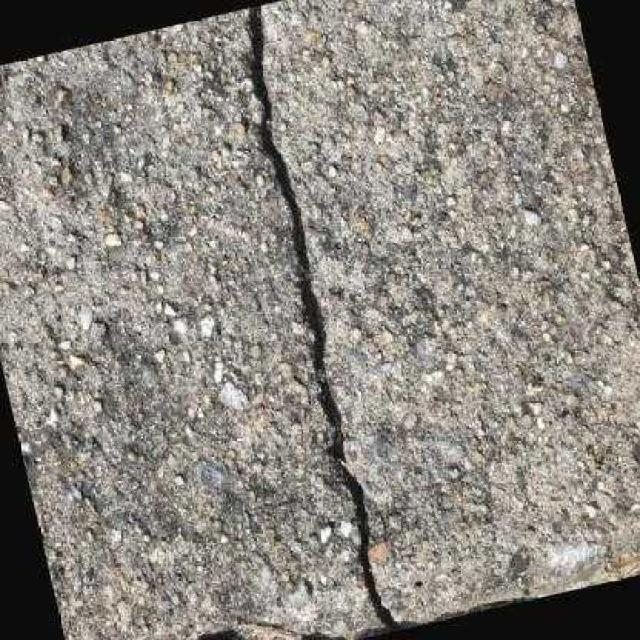D00: (248, 5, 398, 632)
